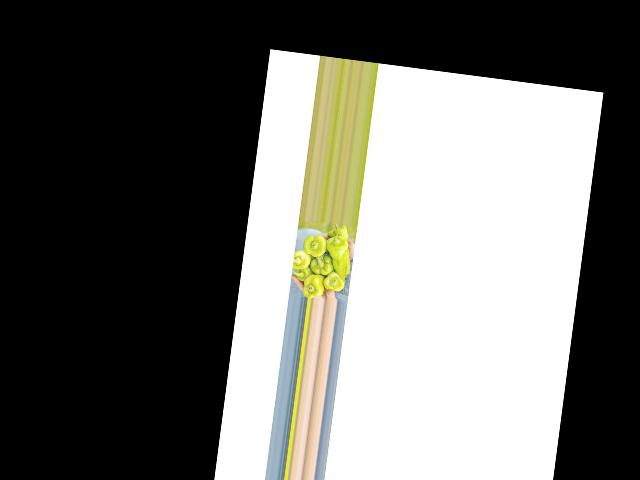bell_pepper: (299, 271, 324, 298)
